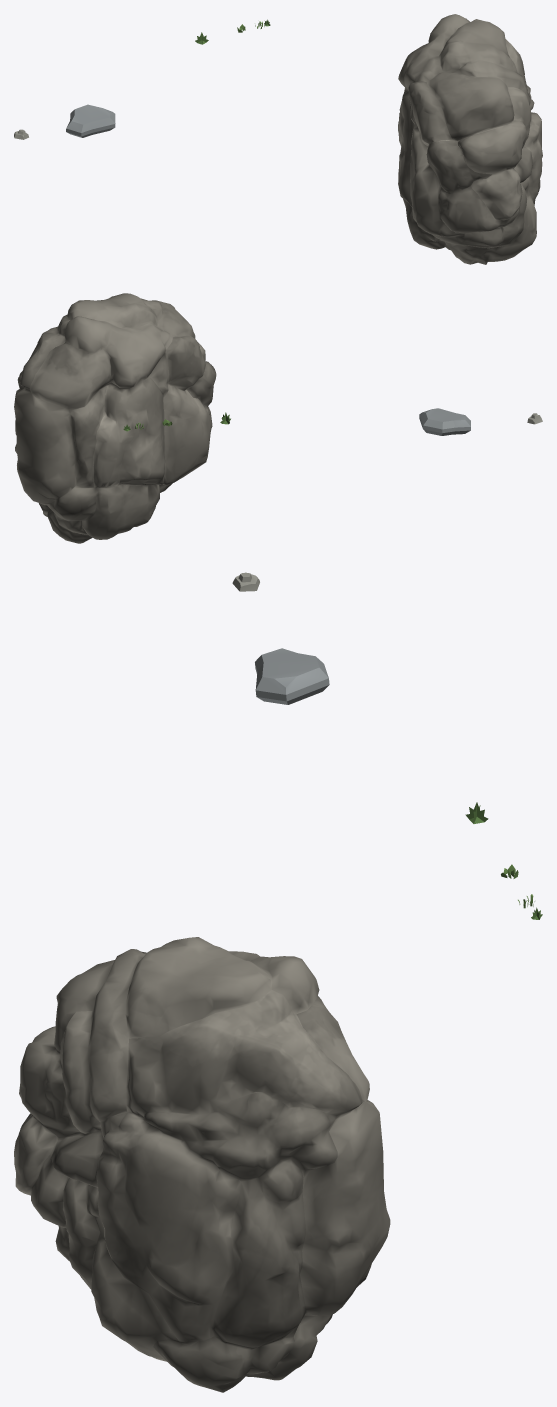
File: cell_x2_z2_render.gltf
The picture shows the model from 3 angles, top to bottom: view 1: azimuth 30°, elevation 25°; view 2: azimuth 150°, elevation 25°; view 3: azimuth 270°, elevation 25°; orthographic projection. The views are drawn at different scales.
Visible parts, largest first — view 1: cell_x2_z2; view 2: cell_x2_z2; view 3: cell_x2_z2.
Part boxes in pixels (left/top/right/bottom): cell_x2_z2: left=14, top=14, right=542, bottom=264; cell_x2_z2: left=14, top=293, right=542, bottom=543; cell_x2_z2: left=14, top=572, right=542, bottom=1392.
Bounding box in the file's own units: 41.27 × 17.75 × 20.81.
5 materials, 1 textured.
